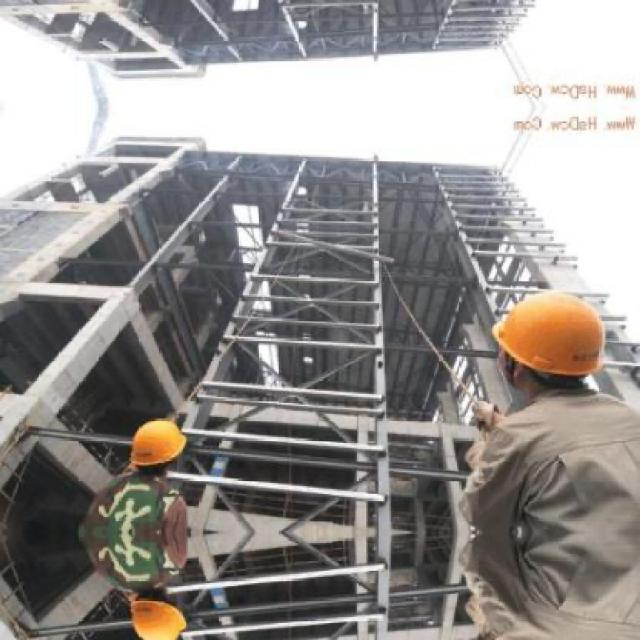2: (457, 288, 638, 529), (456, 532, 638, 638), (78, 417, 200, 529), (78, 532, 202, 638)
helmet: (480, 277, 617, 400), (125, 412, 189, 477), (123, 584, 189, 638)
